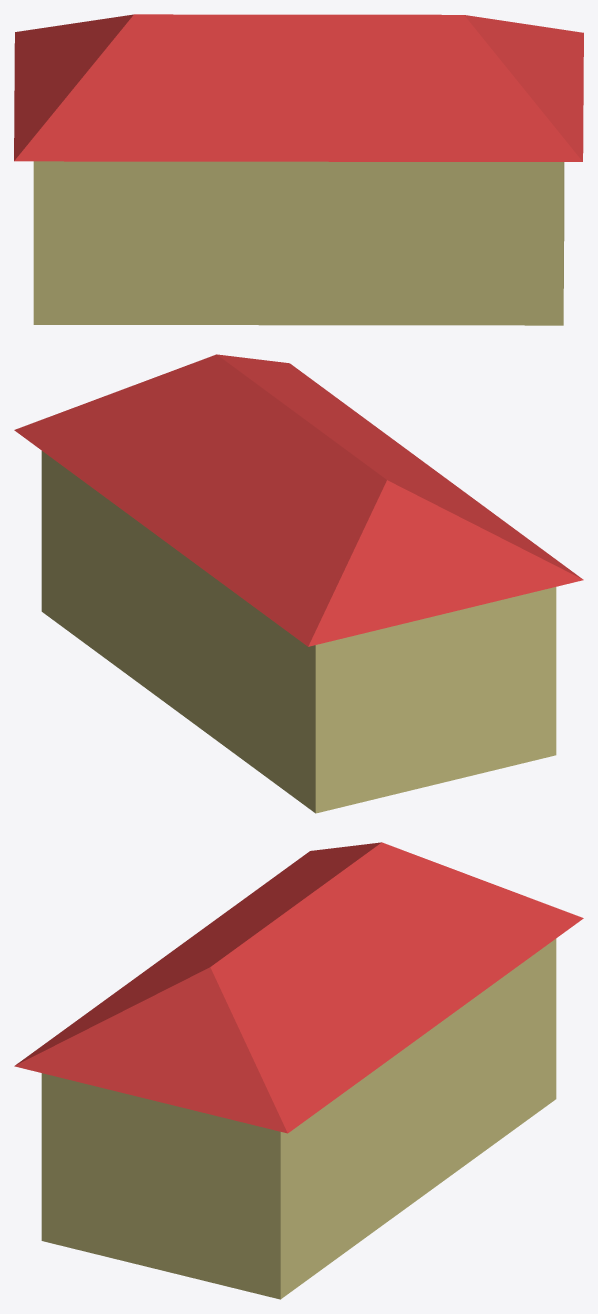
The picture shows the model from 3 angles, top to bottom: view 1: azimuth 30°, elevation 25°; view 2: azimuth 150°, elevation 25°; view 3: azimuth 270°, elevation 25°; orthographic projection. The views are drawn at different scales.
Parts seen in each view (by area): view 1: group_5, group_3, group_4; view 2: group_5, group_3, group_4; view 3: group_5, group_3, group_4.
Boxes of the visible parts, x1,y1,x2,y2 form: group_5: (33,161,564,325); group_3: (14,14,583,161); group_4: (14,81,582,161); group_5: (41,451,556,813); group_3: (42,354,583,646); group_4: (14,418,575,646); group_5: (41,939,556,1299); group_3: (15,842,577,1133); group_4: (14,849,583,1132).
Bounding box in the file's own units: 32.97 × 28.11 × 14.4.
